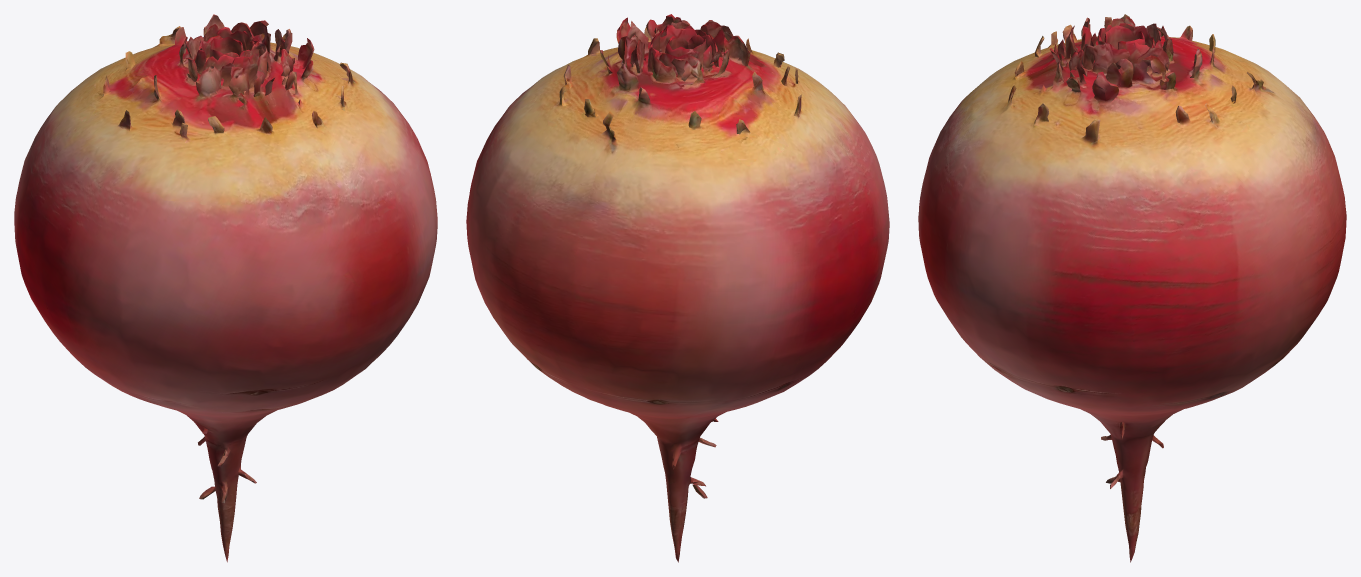
File: realbeetroot.glb
3 renders of one model, left to right at view 1: azimuth 30°, elevation 25°; view 2: azimuth 150°, elevation 25°; view 3: azimuth 270°, elevation 25°, orthographic.
Visible parts, largest first — view 1: Object_4; view 2: Object_4; view 3: Object_4.
Boxes of the visible parts, x1,y1,x2,y2 form: Object_4: (14,14,437,562); Object_4: (466,14,889,562); Object_4: (918,14,1346,562).
Bounding box in the file's own units: 0.0876 × 0.12 × 0.0878.
Materials: 1 (1 with a texture image).
